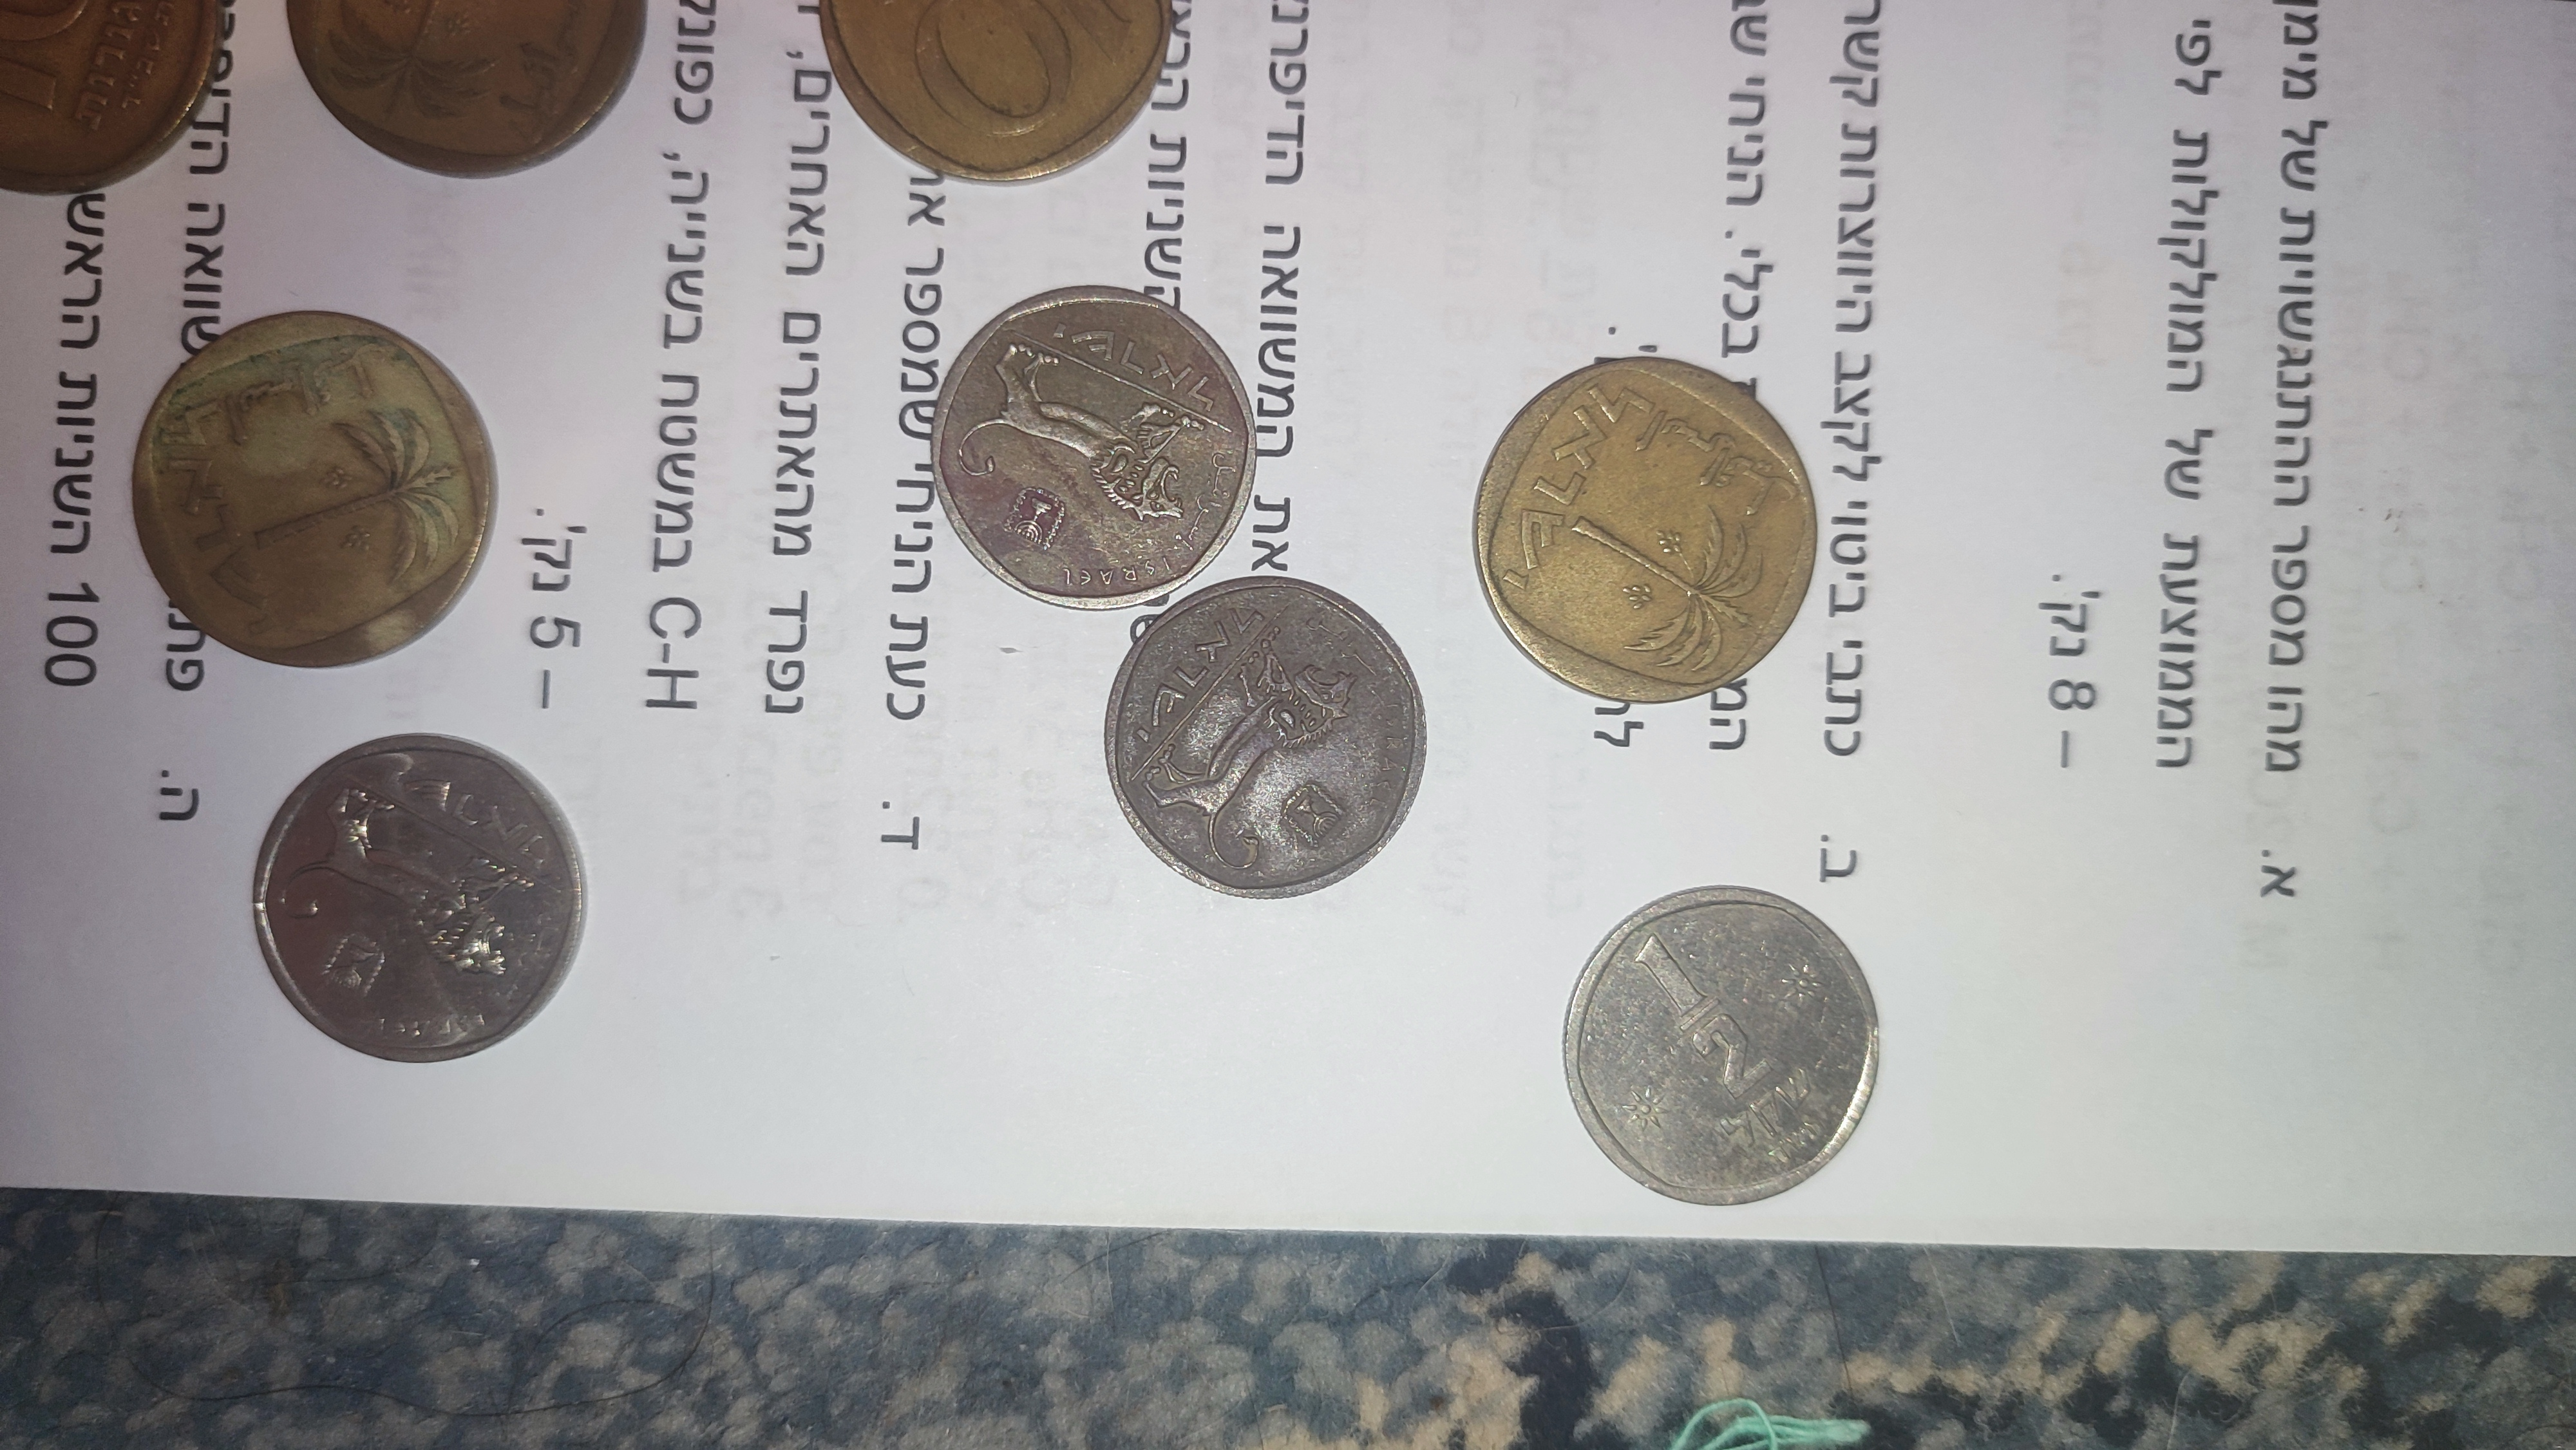1/2 old sheqel: (251, 730, 591, 1066), (927, 281, 1260, 614), (1102, 573, 1430, 902), (1559, 881, 1882, 1208)
10 old agora brown: (126, 306, 501, 675), (1465, 348, 1821, 709), (810, 0, 1182, 189), (280, 0, 653, 182), (0, 0, 228, 200)
